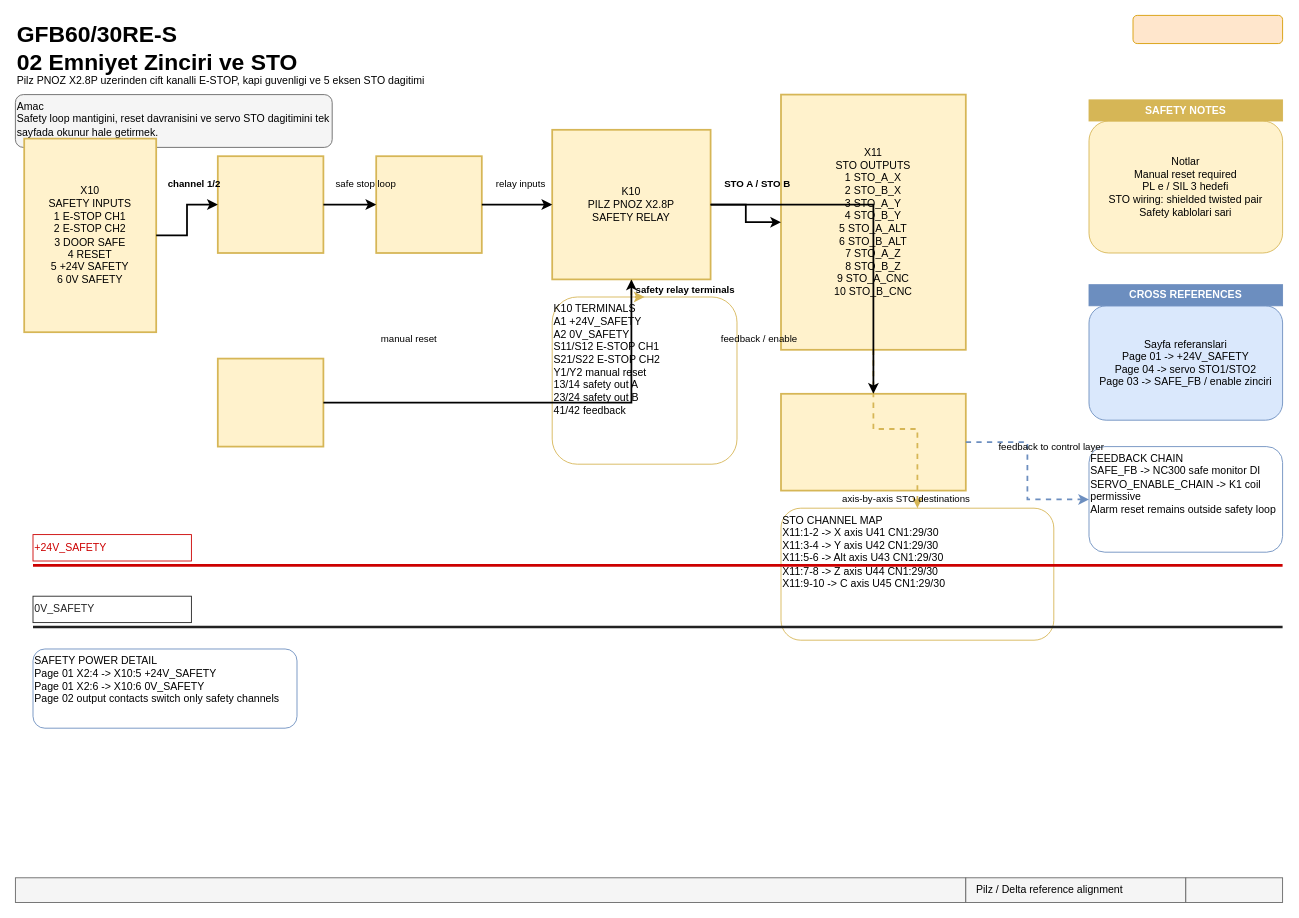
Image size: 1299x918. Some labels were removed from this diagram. Here are the shapes that lost their labels. From the top down, the box of each, then its label:
(1132, 15, 1283, 44): PAGE 02 / SAFETY
(216, 155, 324, 253): S0 E-STOP 2 CHANNEL NC
(375, 155, 482, 253): S1 SAFETY DOOR NC
(216, 357, 324, 447): S2 RESET NO PUSHBUTTON
(780, 392, 966, 491): X12 AUX SIGNALS 1 SAFE_FB 2 SERVO_ENABLE_CHAIN
(15, 877, 966, 902): Rev A | Safety and STO functional wiring summary
(1185, 877, 1283, 902): Sheet 2 / 6
